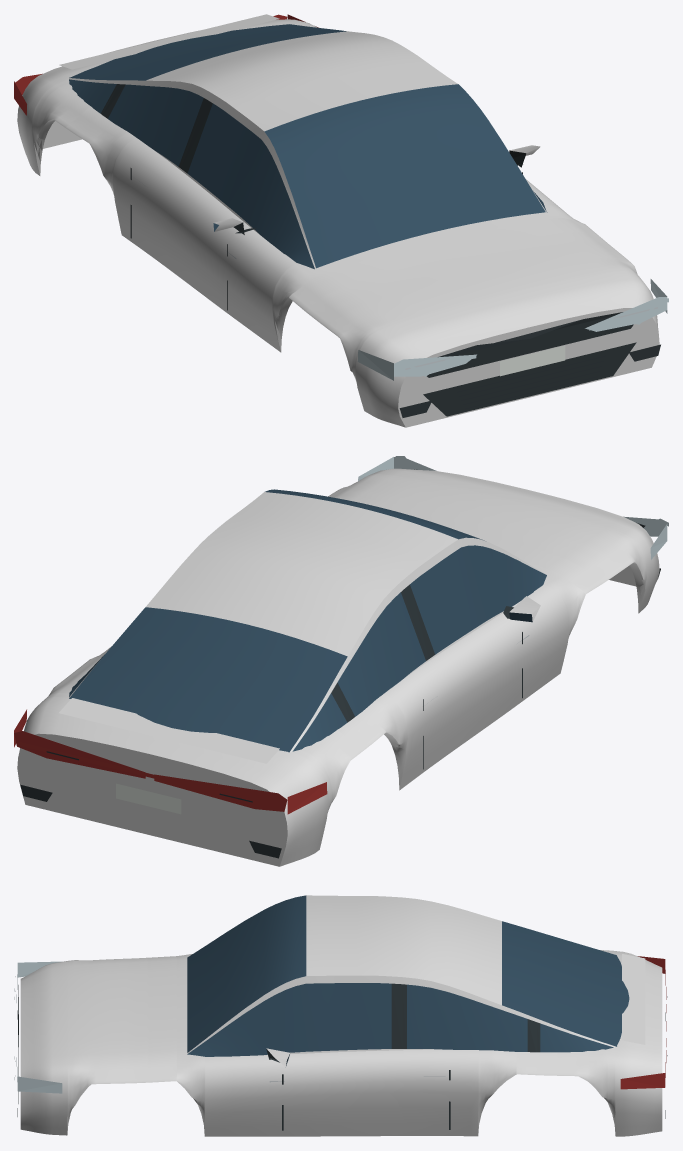
Rendered from veh_k5-lod0.glb.
The picture shows the model from 3 angles, top to bottom: view 1: azimuth 30°, elevation 25°; view 2: azimuth 150°, elevation 25°; view 3: azimuth 270°, elevation 25°; orthographic projection. The views are drawn at different scales.
Parts seen in each view (by area): view 1: paint, glass, trim, head, plate; view 2: paint, glass, tail, trim, head, plate; view 3: paint, glass, trim, head, tail.
Part boxes in pixels (x1=…): paint: x1=17, y1=14, x2=659, y2=427; glass: x1=69, y1=24, x2=547, y2=269; trim: x1=100, y1=84, x2=660, y2=417; head: x1=357, y1=279, x2=668, y2=380; plate: x1=500, y1=345, x2=565, y2=376; paint: x1=17, y1=468, x2=659, y2=866; glass: x1=69, y1=489, x2=546, y2=752; tail: x1=14, y1=709, x2=327, y2=814; trim: x1=20, y1=469, x2=660, y2=858; head: x1=358, y1=456, x2=668, y2=559; plate: x1=116, y1=783, x2=181, y2=814; paint: x1=20, y1=895, x2=662, y2=1136; glass: x1=187, y1=895, x2=629, y2=1065; trim: x1=17, y1=983, x2=667, y2=1130; head: x1=14, y1=961, x2=62, y2=1093; tail: x1=620, y1=956, x2=666, y2=1089.
Size of the model in its own units: 1.57 by 0.815 by 3.24.
